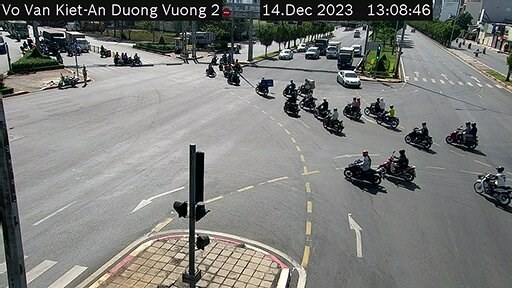car: (333, 67, 361, 90), (304, 46, 316, 61), (279, 46, 290, 57)
motorbike: (377, 144, 415, 184), (475, 162, 509, 198), (349, 149, 376, 189), (412, 120, 437, 157), (451, 119, 477, 150), (326, 104, 348, 133), (366, 94, 386, 123), (347, 91, 363, 125), (254, 72, 271, 97), (381, 105, 394, 136), (283, 91, 297, 116), (316, 96, 330, 117)
truck: (338, 45, 355, 66), (329, 41, 344, 59)
